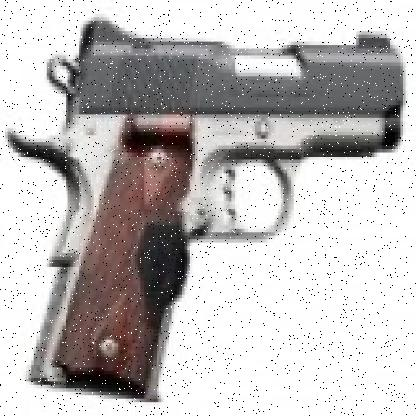pistol: (5, 21, 403, 409)
